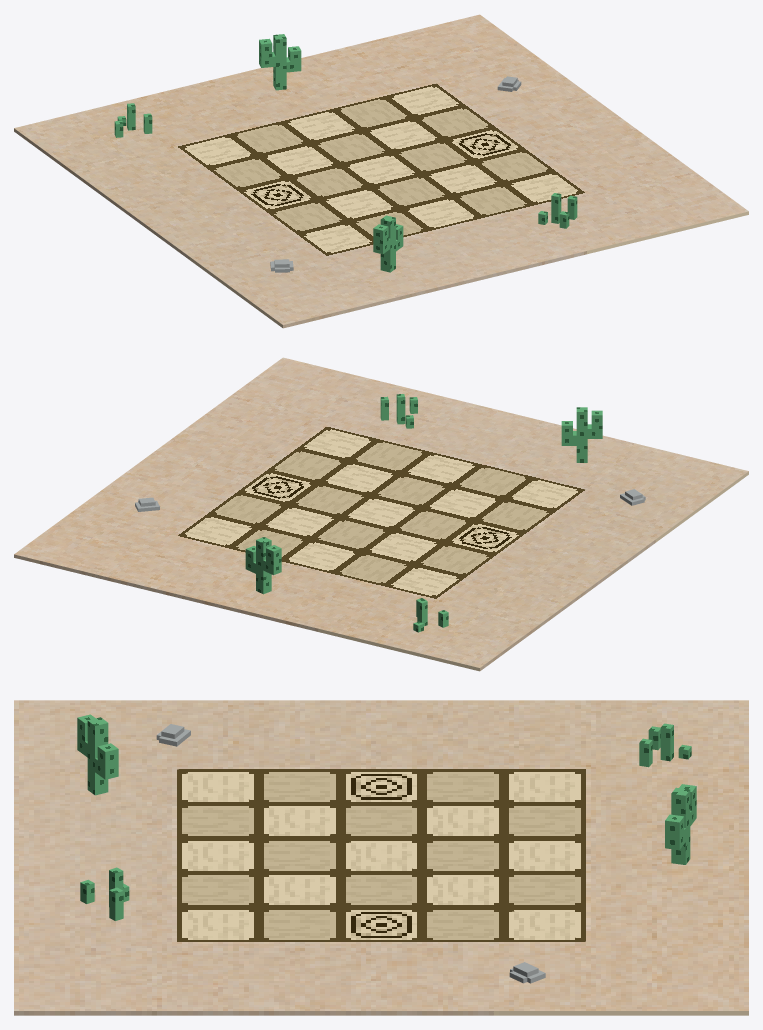
File: board-desert.gltf
3 views of the same model, one above another, from view 1: azimuth 30°, elevation 25°; view 2: azimuth 150°, elevation 25°; view 3: azimuth 270°, elevation 25° (orthographic). The views are drawn at different scales.
Parts seen in each view (by area): view 1: cube (×3); view 2: cube (×3); view 3: cube (×3).
Part boxes in pixels (x1,y1,x2,y2): cube (×3): (14,14,748,328); cube (×3): (14,357,748,671); cube (×3): (14,700,748,1015).
Size of the model in its own units: 18 by 2 by 18.
Materials: 3 (3 with a texture image).
